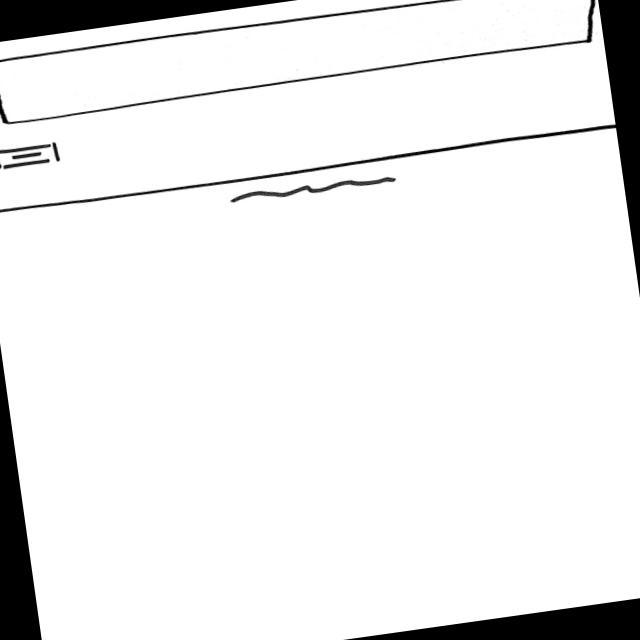container: (0, 0, 604, 126)
icon-button: (0, 141, 63, 173)
text: (227, 169, 403, 210)
